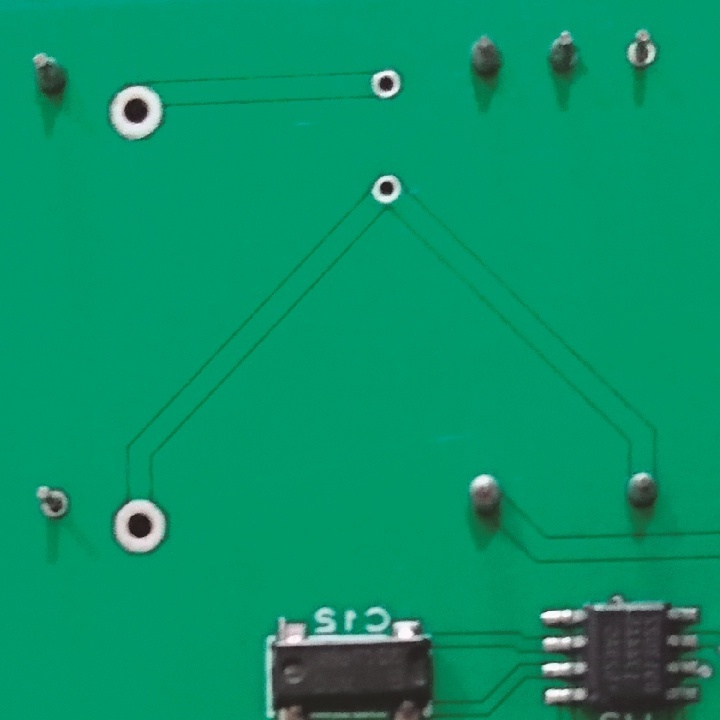F: (107, 495, 171, 558), (103, 84, 168, 143), (622, 25, 663, 75), (33, 479, 76, 520), (367, 169, 407, 209), (367, 66, 404, 104)
